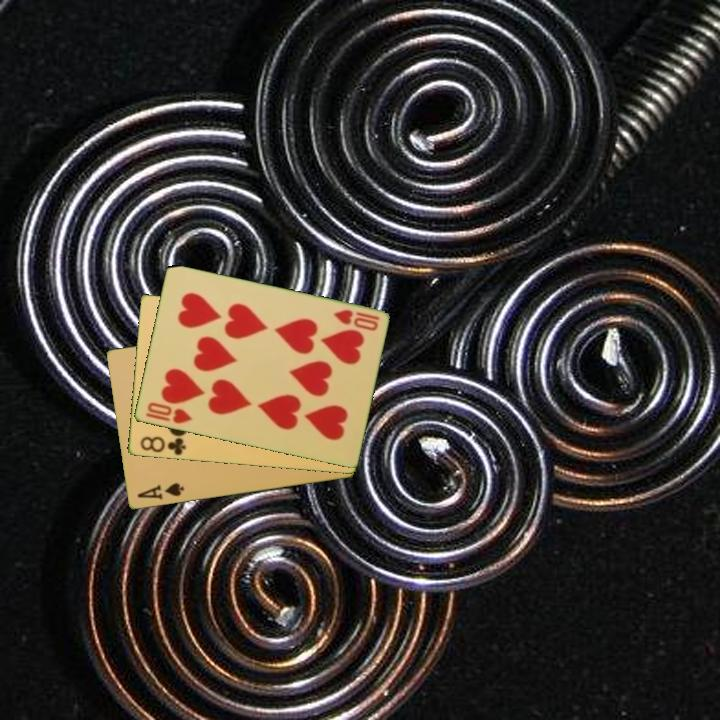10h: (142, 399, 195, 427), (329, 306, 382, 334)
8c: (137, 433, 188, 458)
As: (134, 479, 187, 503)
